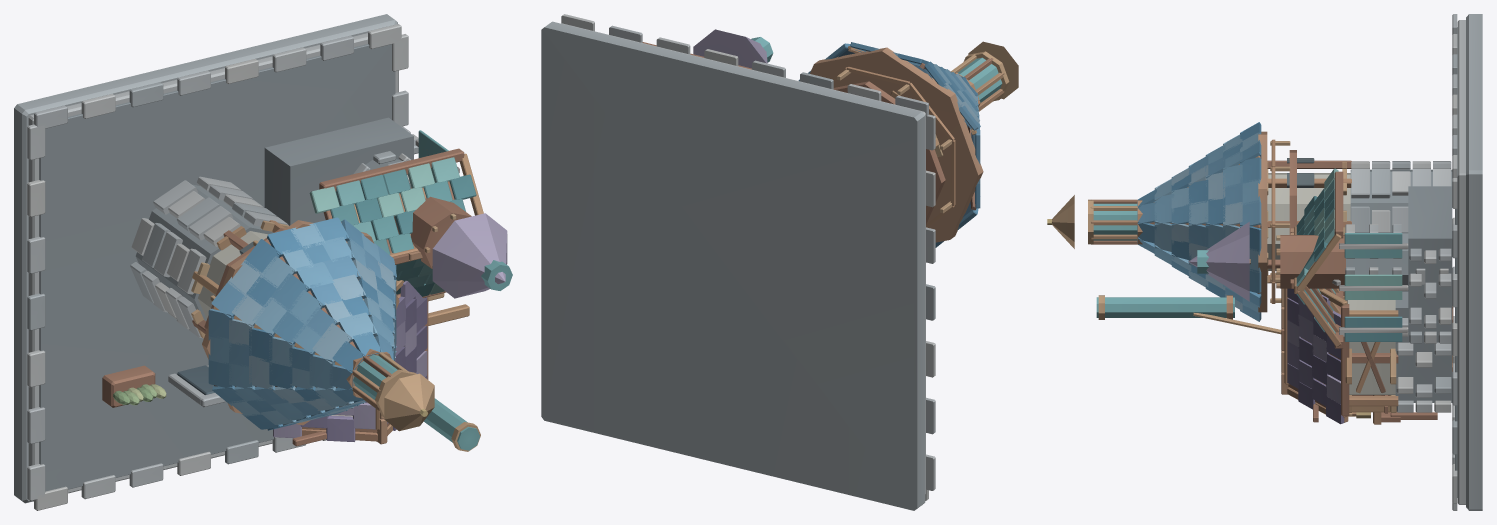
File: alchemy_tower_stage_5.glb
3 renders of one model, left to right at view 1: azimuth 30°, elevation 25°; view 2: azimuth 150°, elevation 25°; view 3: azimuth 270°, elevation 25°, orthographic. The views are drawn at different scales.
Visible parts, largest first — view 1: alchemy_tower_stage_5_foundation_mortar_seam, alchemy_tower_stage_5_foundation_footing, alchemy_tower_stage_5_conservatory_stone_base_mortar_core, alchemy_tower_stage_5_secondary_reagent_tower_roof, alchemy_tower_stage_5_foundation_cap, alchemy_tower_stage_5_main_tower_mortar_core, crown_lantern_copper_roof, alchemy_tower_stage_5_secondary_reagent_tower_timber_upper, alchemy_tower_stage_5_conservatory_shingled_roof_shingle_1_3 (×3), alchemy_tower_stage_5_vertical_glass_condenser, alchemy_tower_stage_5_conservatory_shingled_roof_right_eave, alchemy_tower_stage_5_herb_planter_trough (+58 smaller); view 2: alchemy_tower_stage_5_foundation_footing, roof_eave_ring, alchemy_tower_stage_5_secondary_reagent_tower_roof, alchemy_tower_stage_5_tower_balcony_deck, crown_lantern_copper_roof, alchemy_tower_stage_5_foundation_cap, crown_lantern_glass_body; view 3: alchemy_tower_stage_5_foundation_footing, alchemy_tower_stage_5_conservatory_stone_base_mortar_core, alchemy_tower_stage_5_foundation_cap, alchemy_tower_stage_5_vertical_glass_condenser, alchemy_tower_stage_5_secondary_reagent_tower_timber_upper, alchemy_tower_stage_5_secondary_reagent_tower_roof, alchemy_tower_stage_5_workshop_foundation_mortar_core, alchemy_tower_stage_5_workshop_frame_upper_infill, alchemy_tower_stage_5_main_tower_timber_core, roof_eave_ring, alchemy_tower_stage_5_conservatory_right_glass_panel_1, alchemy_tower_stage_5_conservatory_right_glass_panel_2 (+17 smaller).
Boxes of the visible parts, x1=… form: alchemy_tower_stage_5_foundation_mortar_seam: x1=39, y1=44, x2=395, y2=491; alchemy_tower_stage_5_foundation_footing: x1=14, y1=14, x2=397, y2=503; alchemy_tower_stage_5_conservatory_stone_base_mortar_core: x1=264, y1=117, x2=413, y2=225; alchemy_tower_stage_5_secondary_reagent_tower_roof: x1=432, y1=213, x2=507, y2=298; alchemy_tower_stage_5_foundation_cap: x1=28, y1=33, x2=398, y2=501; alchemy_tower_stage_5_main_tower_mortar_core: x1=135, y1=184, x2=273, y2=320; crown_lantern_copper_roof: x1=384, y1=373, x2=434, y2=431; alchemy_tower_stage_5_secondary_reagent_tower_timber_upper: x1=394, y1=187, x2=471, y2=268; alchemy_tower_stage_5_conservatory_shingled_roof_shingle_1_3 (×3): x1=309, y1=157, x2=459, y2=213; alchemy_tower_stage_5_vertical_glass_condenser: x1=424, y1=398, x2=479, y2=450; alchemy_tower_stage_5_conservatory_shingled_roof_right_eave: x1=319, y1=148, x2=464, y2=191; alchemy_tower_stage_5_herb_planter_trough: x1=102, y1=365, x2=155, y2=407; alchemy_tower_stage_5_foundation_footing: x1=541, y1=21, x2=925, y2=510; roof_eave_ring: x1=810, y1=47, x2=983, y2=242; alchemy_tower_stage_5_secondary_reagent_tower_roof: x1=693, y1=29, x2=767, y2=68; alchemy_tower_stage_5_tower_balcony_deck: x1=833, y1=81, x2=945, y2=224; crown_lantern_copper_roof: x1=968, y1=41, x2=1018, y2=99; alchemy_tower_stage_5_foundation_cap: x1=561, y1=23, x2=925, y2=493; crown_lantern_glass_body: x1=957, y1=57, x2=1002, y2=102; alchemy_tower_stage_5_foundation_footing: x1=1466, y1=14, x2=1482, y2=510; alchemy_tower_stage_5_conservatory_stone_base_mortar_core: x1=1408, y1=186, x2=1452, y2=333; alchemy_tower_stage_5_foundation_cap: x1=1457, y1=20, x2=1465, y2=504; alchemy_tower_stage_5_vertical_glass_condenser: x1=1096, y1=297, x2=1234, y2=317; alchemy_tower_stage_5_secondary_reagent_tower_timber_upper: x1=1280, y1=235, x2=1345, y2=288; alchemy_tower_stage_5_secondary_reagent_tower_roof: x1=1188, y1=222, x2=1249, y2=301; alchemy_tower_stage_5_workshop_foundation_mortar_core: x1=1395, y1=291, x2=1452, y2=402; alchemy_tower_stage_5_workshop_frame_upper_infill: x1=1346, y1=300, x2=1395, y2=394; alchemy_tower_stage_5_main_tower_timber_core: x1=1267, y1=173, x2=1350, y2=270; roof_eave_ring: x1=1258, y1=131, x2=1267, y2=312; alchemy_tower_stage_5_conservatory_right_glass_panel_1: x1=1344, y1=274, x2=1402, y2=299; alchemy_tower_stage_5_conservatory_right_glass_panel_2: x1=1344, y1=233, x2=1402, y2=258.
Size of the model in its own units: 3.65 by 3.61 by 4.15.
